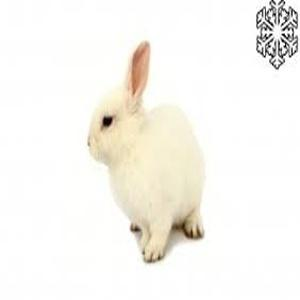rabbit: (88, 42, 204, 260)
